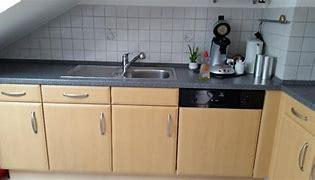cabinet_door: (179, 110, 257, 176), (112, 105, 178, 172), (45, 104, 111, 169), (0, 103, 43, 167), (272, 126, 315, 180), (111, 89, 179, 106), (43, 88, 112, 104), (280, 100, 315, 127), (0, 86, 42, 102)
handle: (296, 140, 311, 174), (164, 114, 175, 139), (288, 107, 306, 121), (62, 92, 91, 100), (98, 112, 107, 136), (30, 111, 39, 134), (0, 90, 28, 97)
